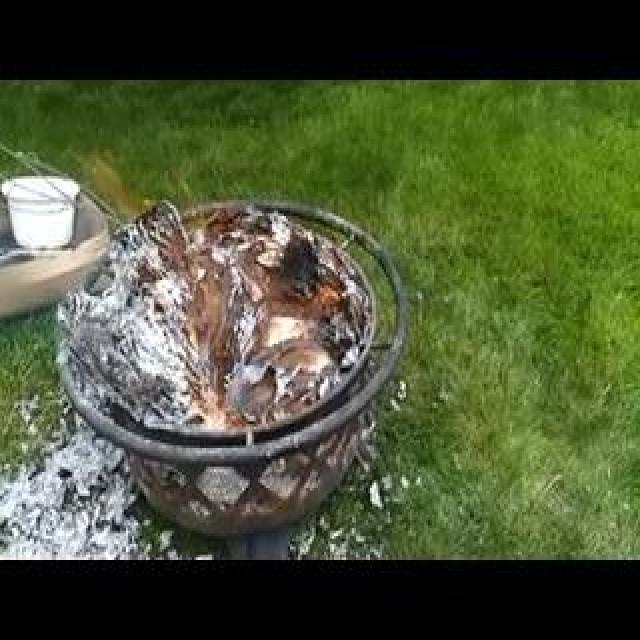Fire: (142, 170, 222, 352)
